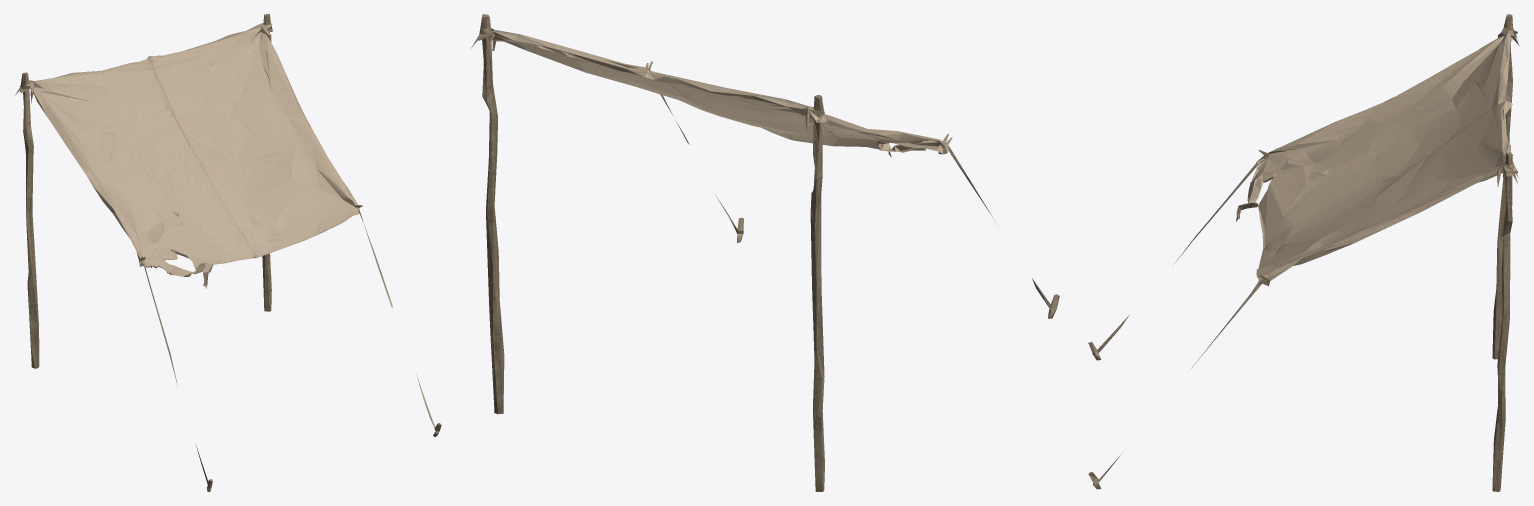
Rendered from shade.glb.
The picture shows the model from 3 angles, left to right: view 1: azimuth 30°, elevation 25°; view 2: azimuth 150°, elevation 25°; view 3: azimuth 270°, elevation 25°; orthographic projection. The views are drawn at different scales.
Bounding box in the file's own units: 1.52 × 1.65 × 1.9.
1 material, 1 textured.
